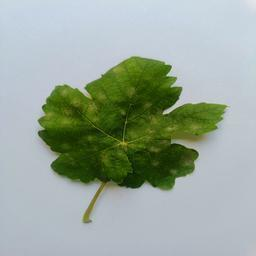Powdery-Mildew: (136, 111, 205, 156), (113, 59, 149, 101), (57, 87, 82, 111), (42, 115, 72, 133), (86, 104, 102, 121), (177, 158, 193, 175)
